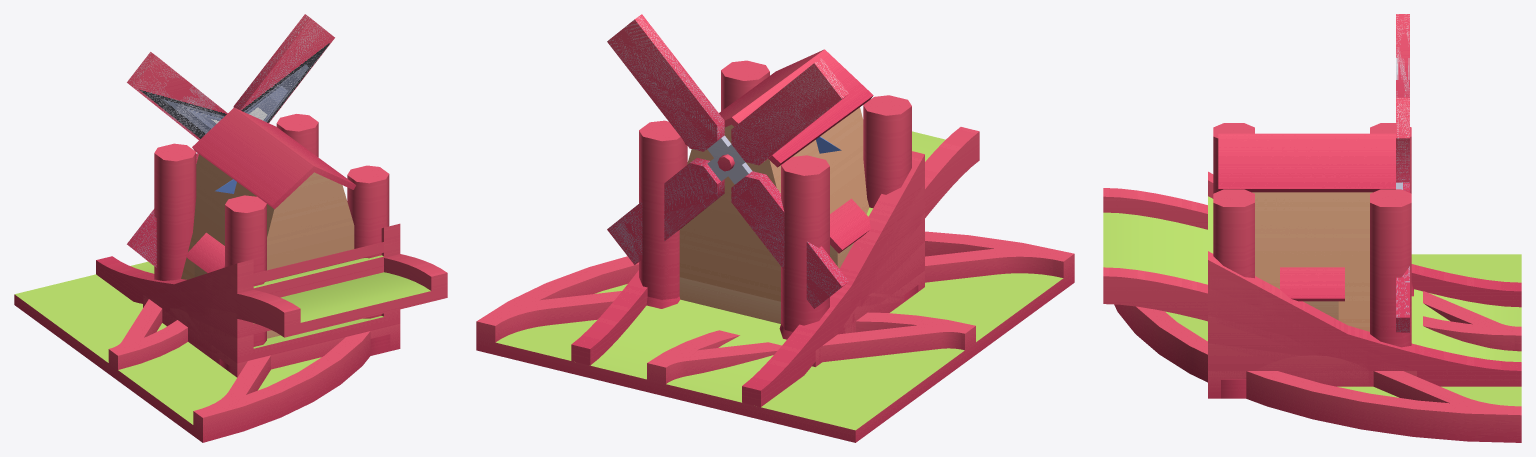
The picture shows the model from 3 angles, left to right: view 1: azimuth 30°, elevation 25°; view 2: azimuth 150°, elevation 25°; view 3: azimuth 270°, elevation 25°; orthographic projection. The views are drawn at different scales.
Parts seen in each view (by area): view 1: windmill, supports, round-large-corner, ramp-large, blades, skew-large-corner-open, supports-bottom, skew-large-corner, ramp-d, ramp-a, round-large-corner-open, ramp (+8 smaller); view 2: blades, ramp-large, supports, skew-large-corner, round-large-corner-open, windmill, round-large-corner, supports-bottom, ramp-d, skew-large-corner-open, ramp-large-side, castle (+7 smaller); view 3: ramp-large, windmill, round-large-corner, supports, supports-bottom, ramp-d, skew-large-corner, ramp-c, round-large-corner-open, ramp, blades, ramp-large-side (+6 smaller).
Part boxes in pixels (box(x1,y1,x2,y2)): windmill: box(181, 107, 355, 279); supports: box(154, 114, 389, 346); round-large-corner: box(108, 320, 370, 442); ramp-large: box(96, 254, 447, 337); blades: box(127, 14, 334, 267); skew-large-corner-open: box(15, 274, 236, 423); supports-bottom: box(154, 125, 390, 372); skew-large-corner: box(109, 299, 270, 424); ramp-d: box(143, 223, 400, 312); ramp-a: box(144, 295, 400, 363); round-large-corner-open: box(14, 278, 308, 440); ramp: box(143, 239, 400, 319); blades: box(607, 14, 848, 308); ramp-large: box(571, 127, 979, 407); supports: box(639, 60, 911, 331); skew-large-corner: box(492, 247, 1071, 382); round-large-corner-open: box(477, 273, 1073, 442); windmill: box(679, 49, 873, 301); round-large-corner: box(476, 231, 1074, 396); supports-bottom: box(639, 73, 918, 339); ramp-d: box(816, 151, 924, 349); skew-large-corner-open: box(497, 273, 1061, 423); ramp-large-side: box(592, 132, 979, 402); castle: box(830, 198, 870, 268); ramp-large: box(1103, 188, 1521, 386); windmill: box(1218, 133, 1395, 331); round-large-corner: box(1114, 304, 1521, 442); supports: box(1213, 123, 1411, 342); supports-bottom: box(1213, 138, 1413, 398); ramp-d: box(1208, 171, 1415, 370); skew-large-corner: box(1373, 291, 1521, 415); ramp-c: box(1208, 288, 1415, 374); round-large-corner-open: box(1166, 254, 1521, 406); ramp: box(1208, 197, 1414, 384); blades: box(1396, 14, 1409, 332); ramp-large-side: box(1103, 213, 1521, 361).
Size of the model in its own units: 2 by 1.58 by 2.
64 materials, 64 textured.
